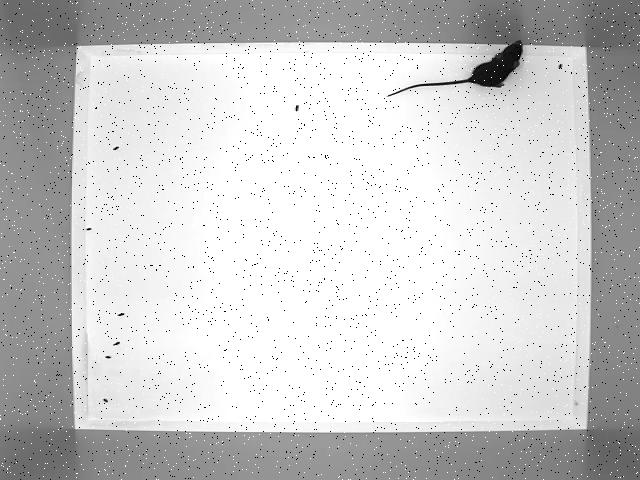Tikus: (387, 40, 523, 99)
